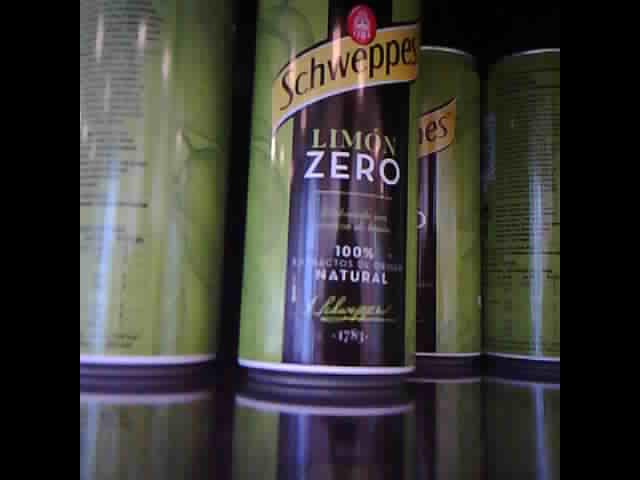schweppes: (237, 1, 419, 386), (81, 1, 231, 381), (488, 19, 560, 372), (414, 30, 482, 372)
